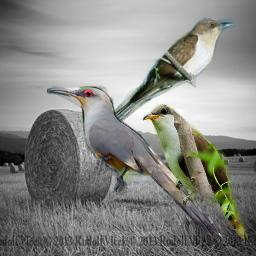Cuckoo: (47, 85, 223, 241), (83, 17, 237, 148), (139, 104, 254, 242)
